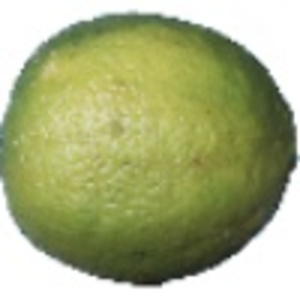limão: (1, 9, 300, 287)
